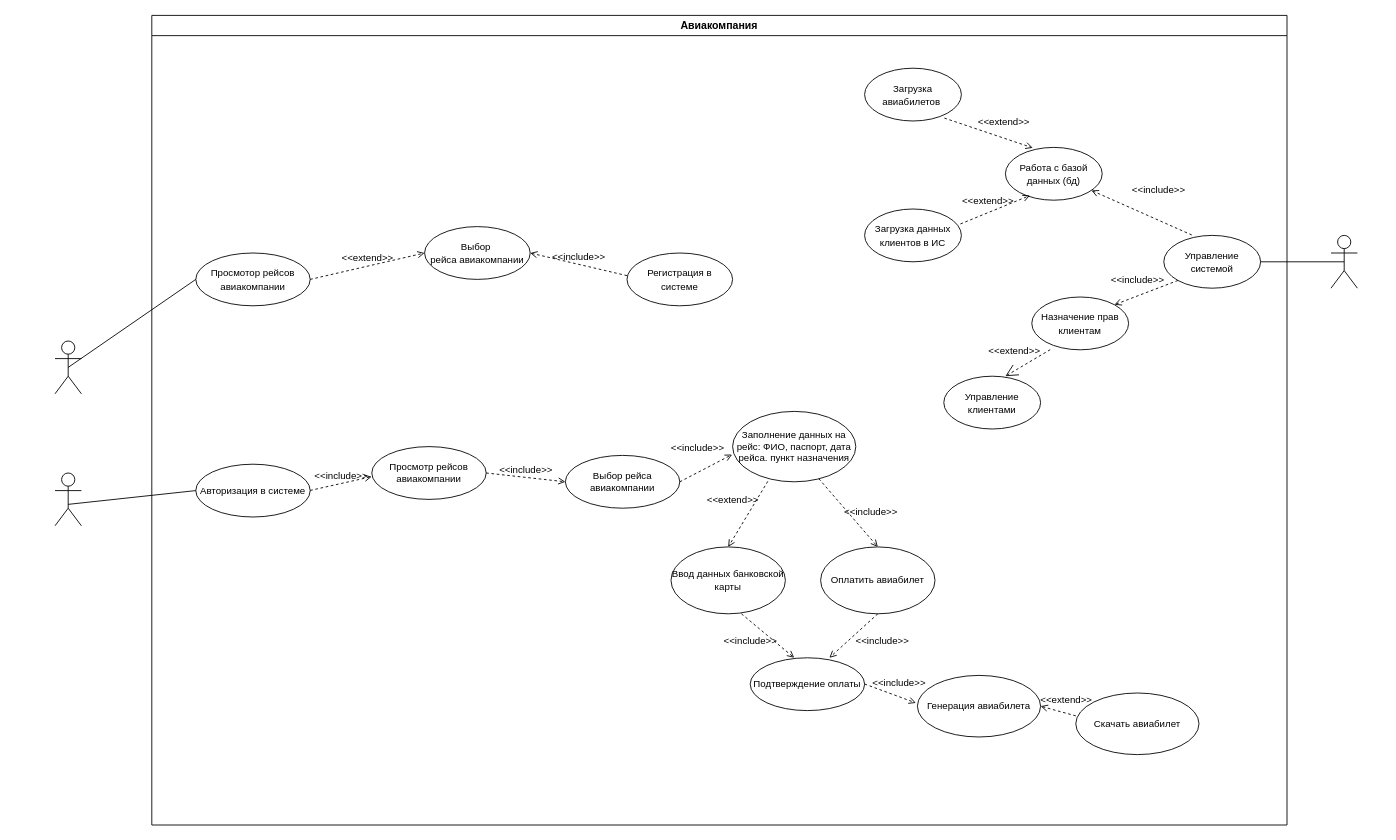
Some shapes in this 1396 by 840 pixel diagram are drawn without their labels. The shapes that lost their labels are listed below. From the top down, each one's centre as x and y in pixels, then its label:
At [1343,261]: "Администратор сайта".
At [67,367]: "Неавторизированный клиент".
At [67,499]: "Авторизированный клиент".
